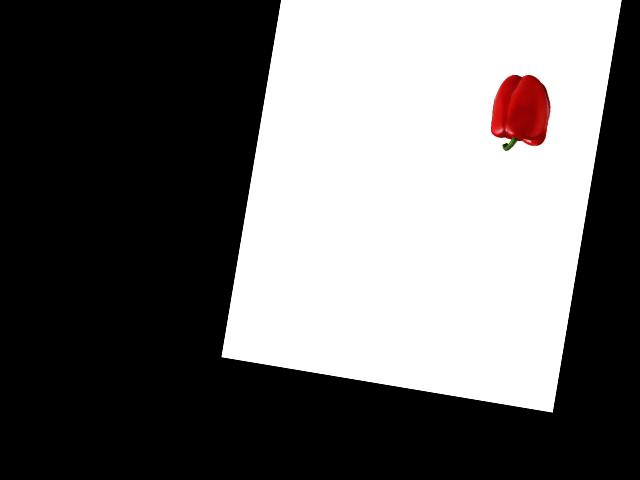bell_pepper: (483, 67, 559, 157)
